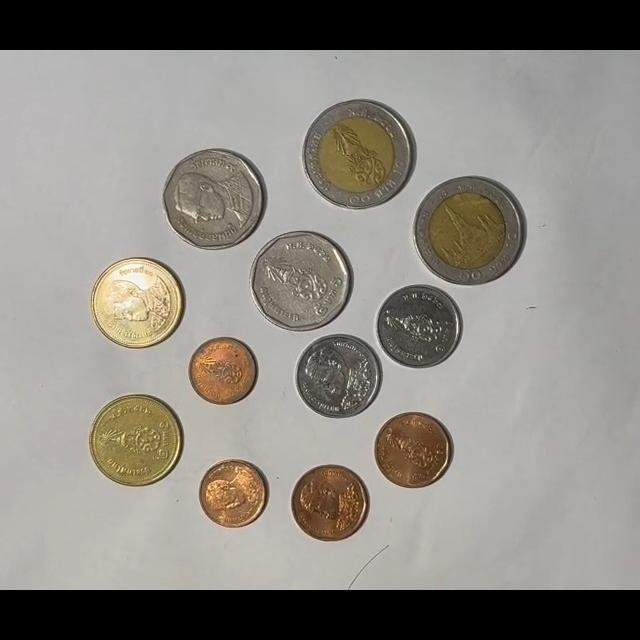1-baht: (375, 284, 462, 370), (294, 334, 381, 420)
10-baht: (302, 99, 416, 211), (413, 176, 525, 286)
2-baht: (90, 257, 184, 351), (89, 394, 184, 487)
25-satang: (198, 459, 269, 530), (188, 336, 258, 405)
5-baht: (162, 148, 266, 250), (250, 230, 352, 333)
50-satang: (291, 464, 370, 542), (374, 412, 452, 489)
